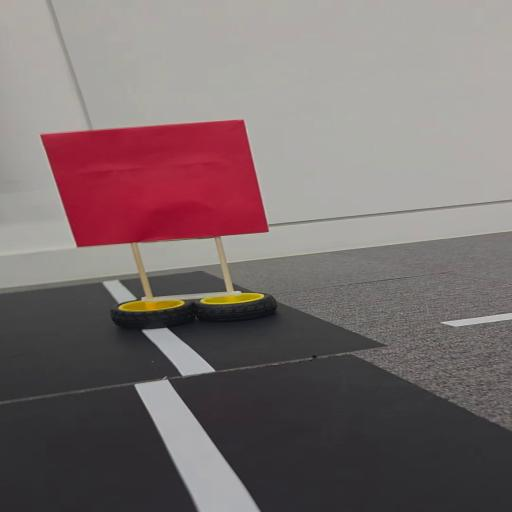Sign_A: (34, 112, 286, 326)
